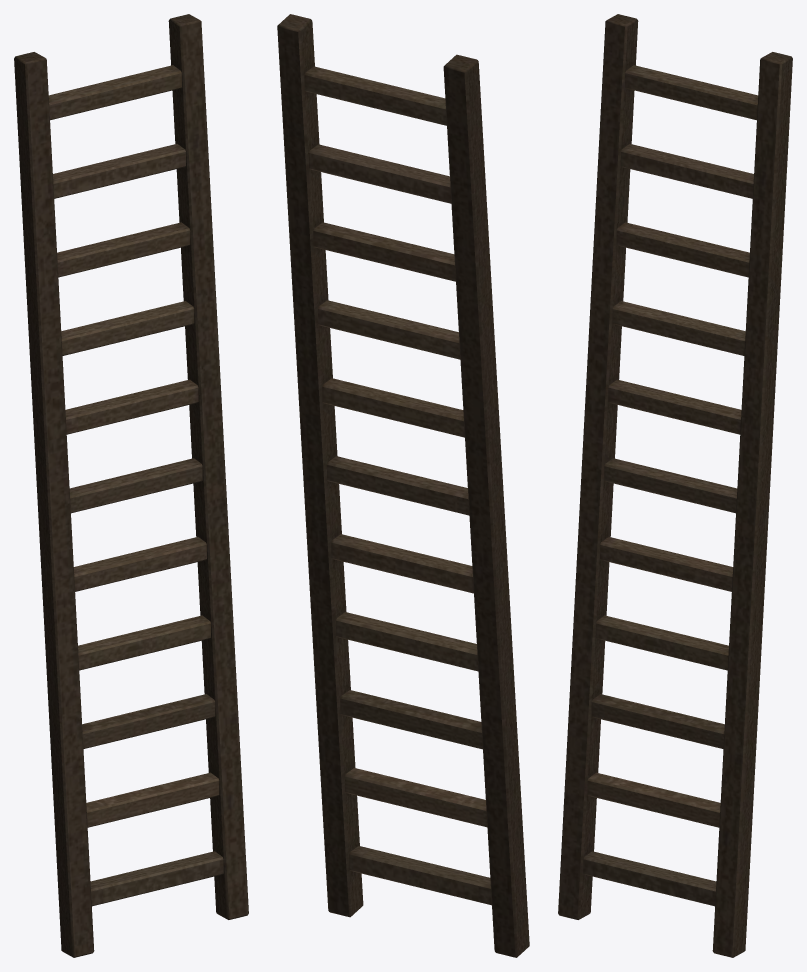
The model's file is ladder.glb.
3 views of the same model, side by side, from view 1: azimuth 30°, elevation 25°; view 2: azimuth 150°, elevation 25°; view 3: azimuth 330°, elevation 25° (orthographic). The views are drawn at different scales.
Parts seen in each view (by area): view 1: ladder; view 2: ladder; view 3: ladder.
Part boxes in pixels (x1,y1,x2,y2): ladder: (14,14,248,957); ladder: (277,14,529,957); ladder: (558,14,792,957).
Bounding box in the file's own units: 0.685 × 3.2 × 0.4034.
1 material, 1 textured.
